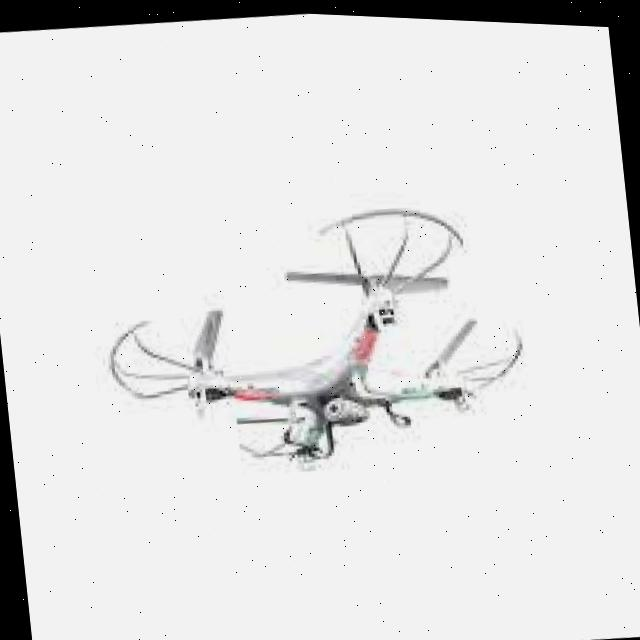drone: (79, 164, 566, 506)
